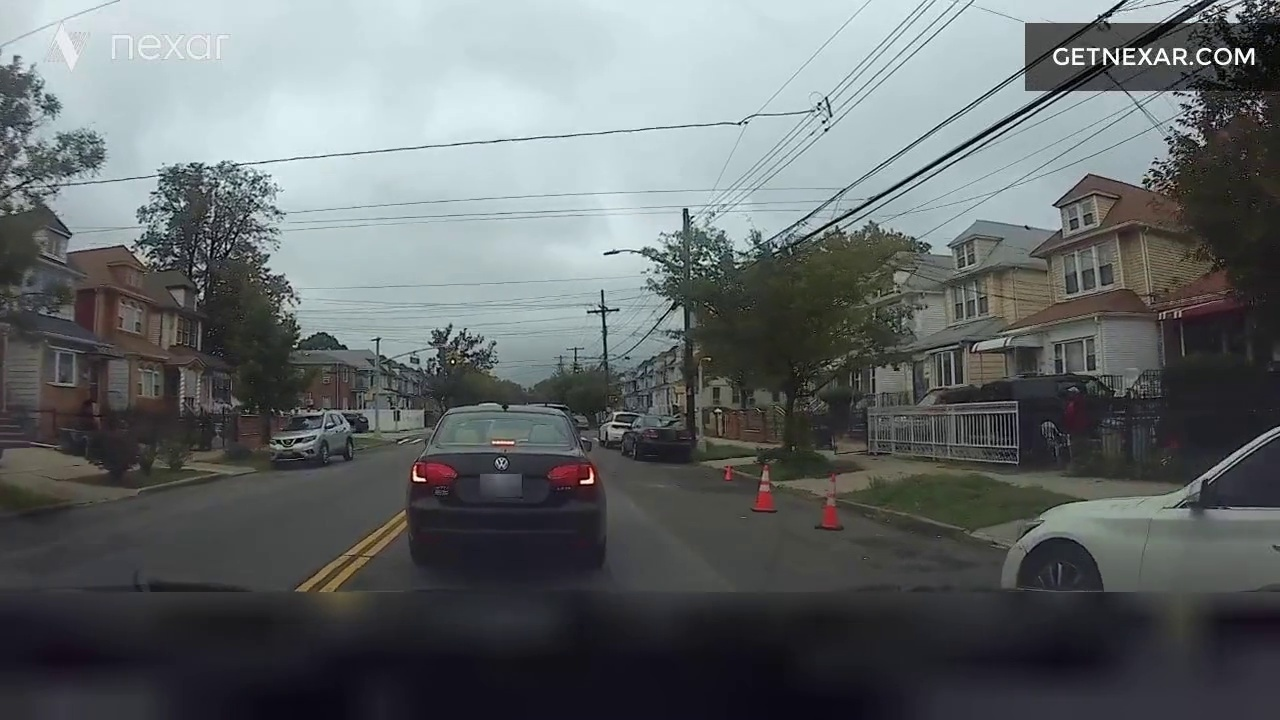car: (947, 425, 1280, 597), (420, 404, 608, 553), (922, 357, 1062, 460), (256, 381, 357, 466), (593, 401, 689, 475)
person: (1047, 384, 1113, 481)
traffic light: (416, 322, 482, 380)
